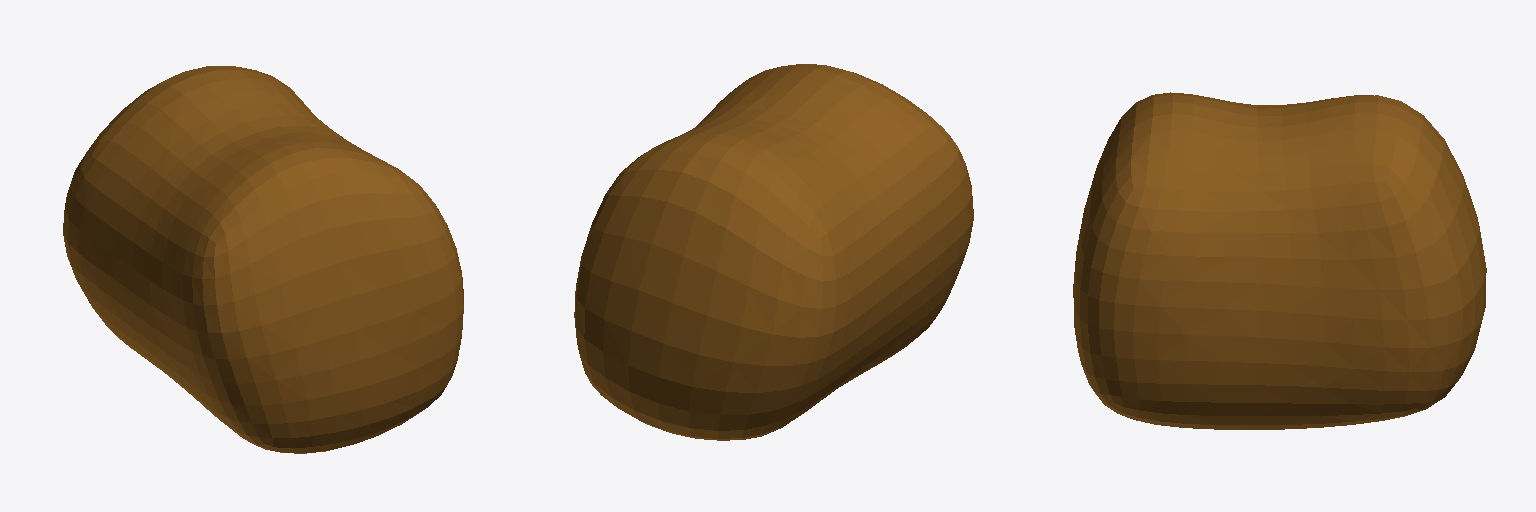
File: fing4_2.obj
3 views of the same model, side by side, from view 1: azimuth 30°, elevation 25°; view 2: azimuth 150°, elevation 25°; view 3: azimuth 270°, elevation 25° (orthographic).
Visible parts, largest first — view 1: f4o2; view 2: f4o2; view 3: f4o2.
Part boxes in pixels (x1,y1,x2,y2): f4o2: (63,66,463,453); f4o2: (574,64,973,440); f4o2: (1073,92,1486,429).
Bounding box in the file's own units: 0.6558 × 0.7041 × 0.8912.